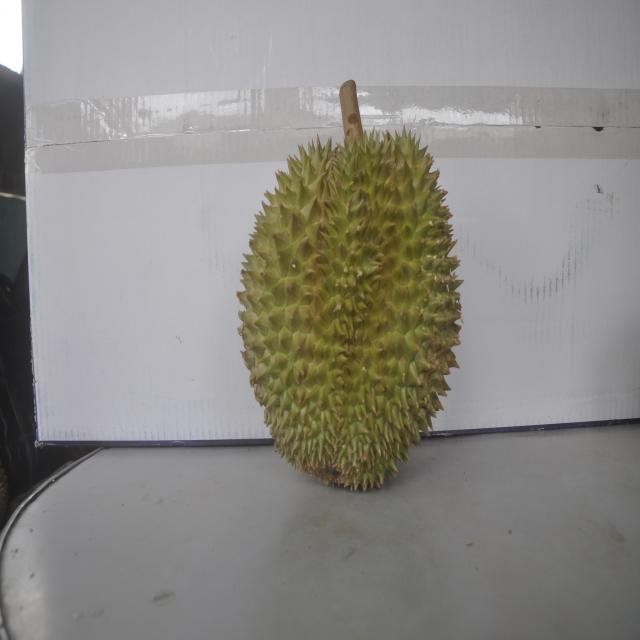mature: (238, 110, 454, 492)
